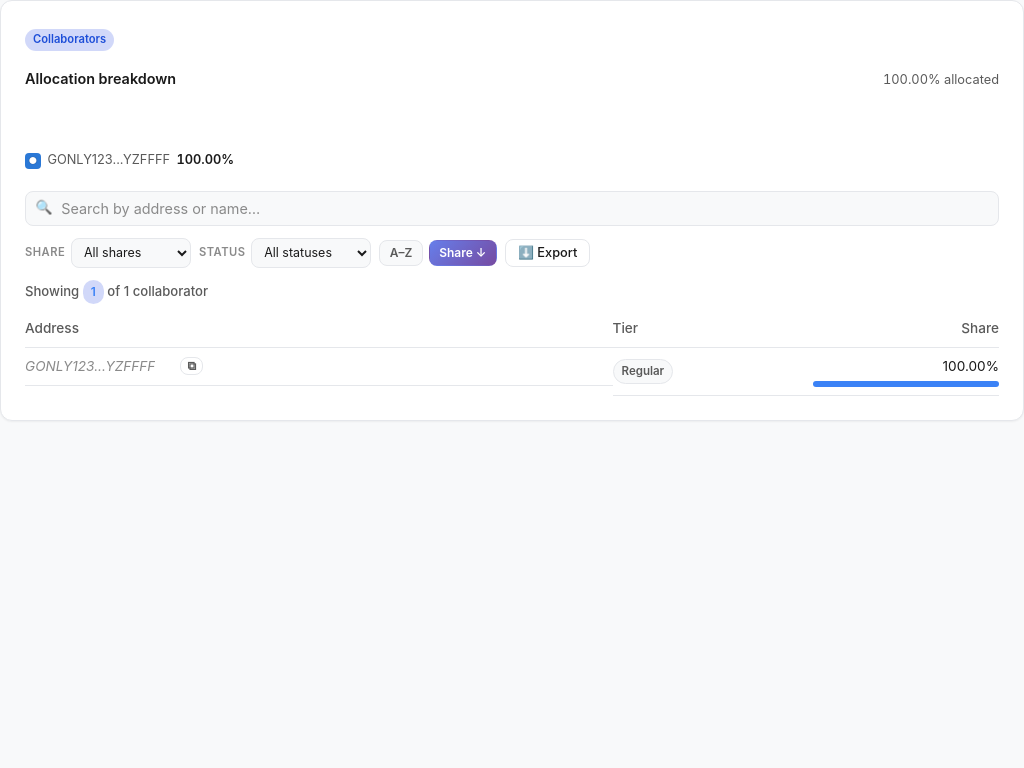
Test case: CollaboratorTable › handles single collaborator edge case
The width and height of the screenshot is (1024, 768).
Type "GONLY" into the field with placeholder "Search by address or name…".
click(512, 208); type("GONLY")  # box [25,191,999,226]
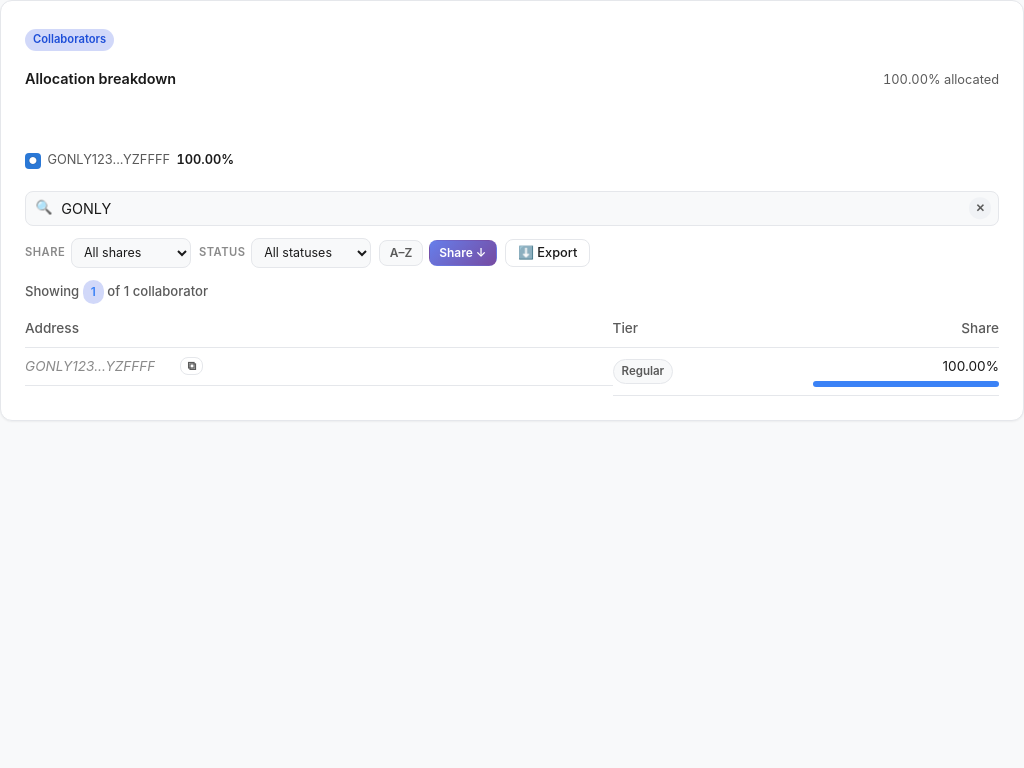
Expected: the text "Showing 1 of 1 collaborator" is shown, [25,280,208,304]
# Search non-matching — 0
Replace the text in the field with placeholder "Search by address or name…" with "ZZZZZZZZ" at (512, 208), box [25,191,999,226]
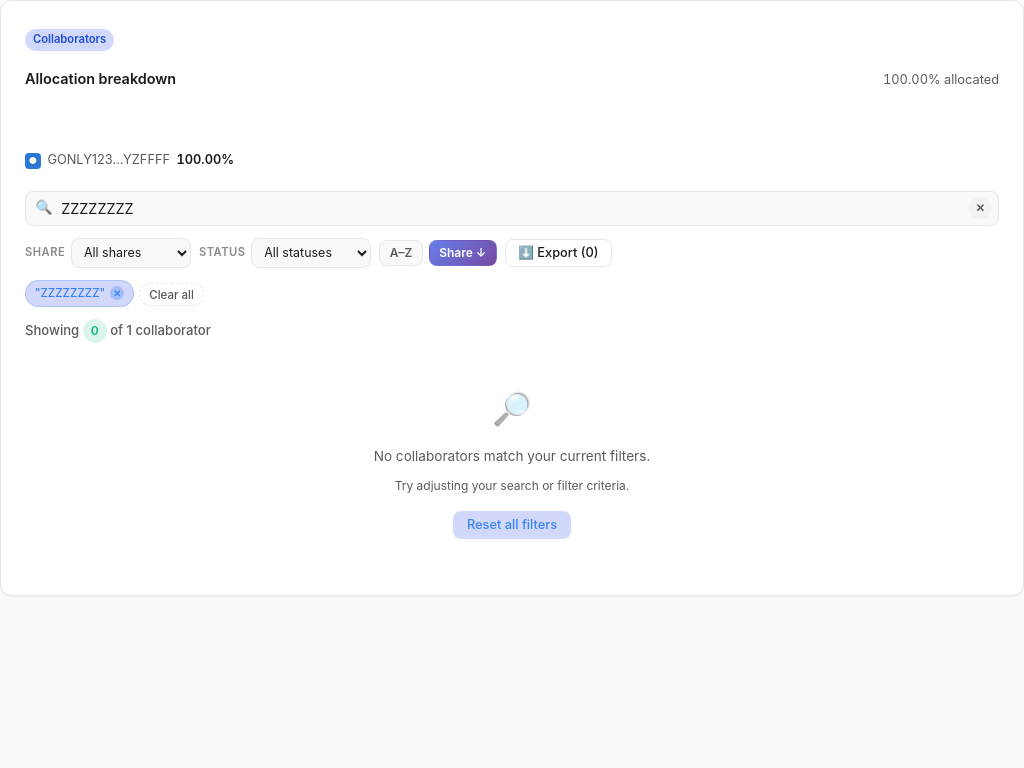
Now the text "No collaborators match your current filters." is shown, box [374,446,650,468]
